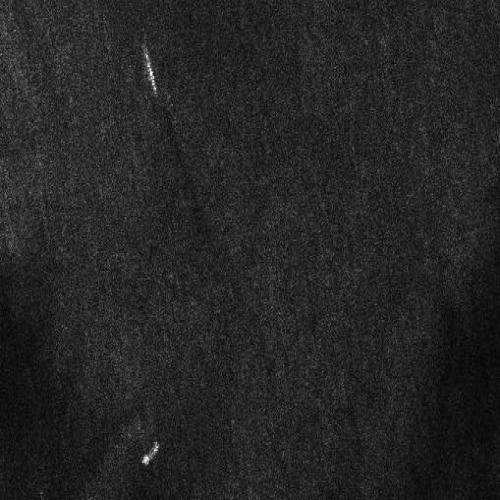ship: (145, 52, 158, 95), (142, 441, 159, 466)
